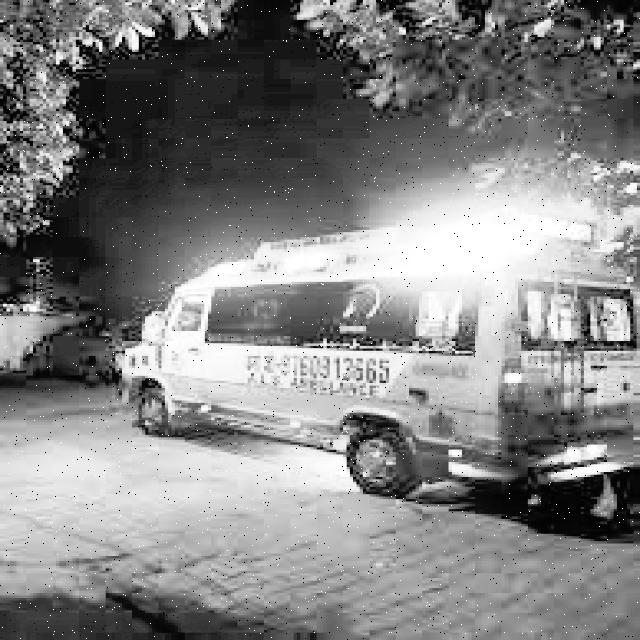Ambulance: (116, 215, 630, 511)
